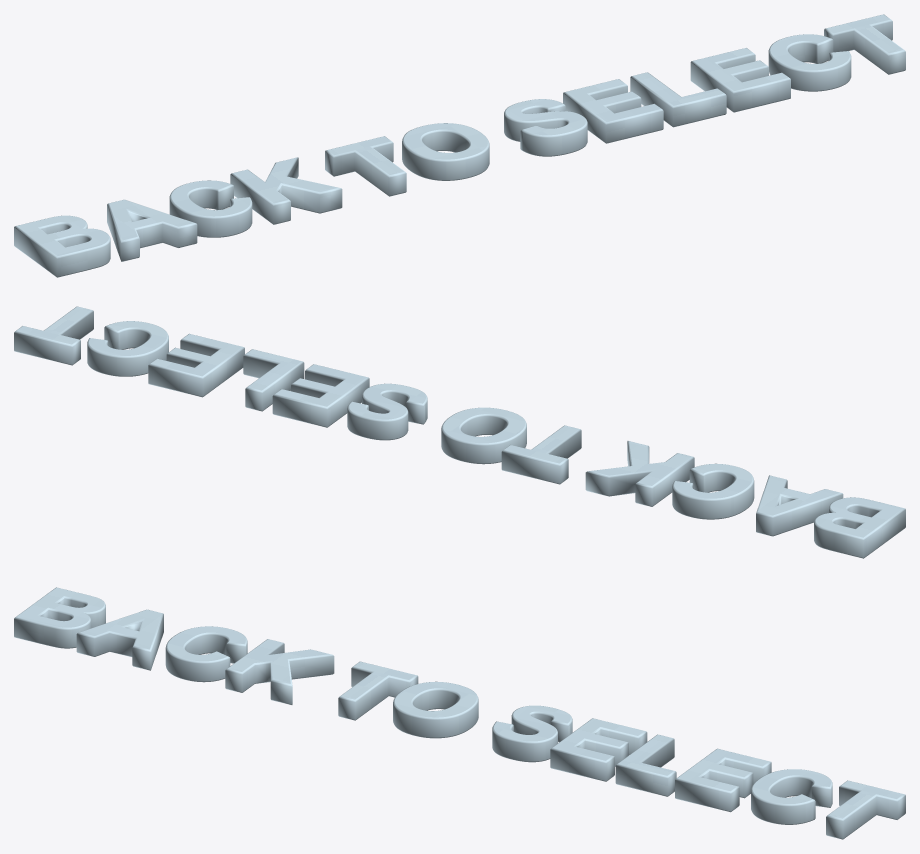
File: pause_back_to_select.obj
3 views of the same model, one above another, from view 1: azimuth 30°, elevation 25°; view 2: azimuth 150°, elevation 25°; view 3: azimuth 330°, elevation 25° (orthographic). The views are drawn at different scales.
Visible parts, largest first — view 1: PauseBackToSelect; view 2: PauseBackToSelect; view 3: PauseBackToSelect.
Boxes of the visible parts, box(x1,y1,x2,y2) form: PauseBackToSelect: box(14, 14, 905, 277); PauseBackToSelect: box(14, 306, 905, 558); PauseBackToSelect: box(14, 587, 905, 839).
Bounding box in the file's own units: 6.7 × 0.1563 × 0.5936.
Materials: 1 (1 with a texture image).
